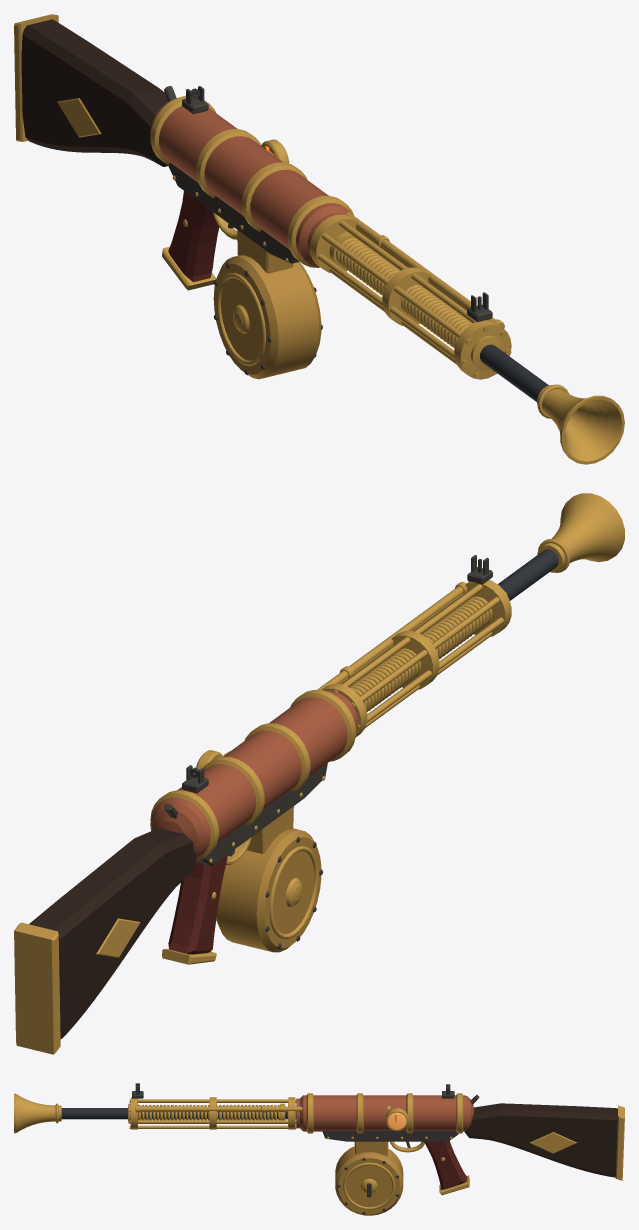
Rendered from steampunk-rifle.glb.
3 views of the same model, one above another, from view 1: azimuth 30°, elevation 25°; view 2: azimuth 150°, elevation 25°; view 3: azimuth 270°, elevation 25° (orthographic). The views are drawn at different scales.
Visible parts, largest first — view 1: Receiver, Stock, Magazine, Handguard, Barrel, Muzzle, Grip; view 2: Stock, Receiver, Magazine, Handguard, Barrel, Grip, Muzzle; view 3: Receiver, Stock, Magazine, Handguard, Barrel, Grip, Muzzle.
Boxes of the visible parts, box(x1,y1,x2,y2) form: Receiver: box(150, 95, 504, 328); Stock: box(14, 14, 168, 166); Magazine: box(213, 230, 322, 379); Handguard: box(310, 214, 511, 379); Barrel: box(329, 232, 548, 401); Muzzle: box(537, 384, 624, 464); Grip: box(162, 191, 219, 290); Stock: box(14, 827, 196, 1054); Receiver: box(150, 582, 467, 865); Magazine: box(216, 806, 322, 952); Handguard: box(321, 580, 511, 737); Barrel: box(349, 549, 558, 712); Grip: box(162, 854, 227, 964); Muzzle: box(537, 493, 624, 572); Receiver: box(135, 1093, 474, 1152); Stock: box(464, 1103, 624, 1180); Magazine: box(335, 1141, 403, 1215); Handguard: box(129, 1097, 296, 1129); Barrel: box(61, 1103, 296, 1123); Grip: box(424, 1141, 469, 1195); Muzzle: box(14, 1093, 61, 1133).
Size of the model in its own units: 0.0817 by 0.2401 by 1.06.
